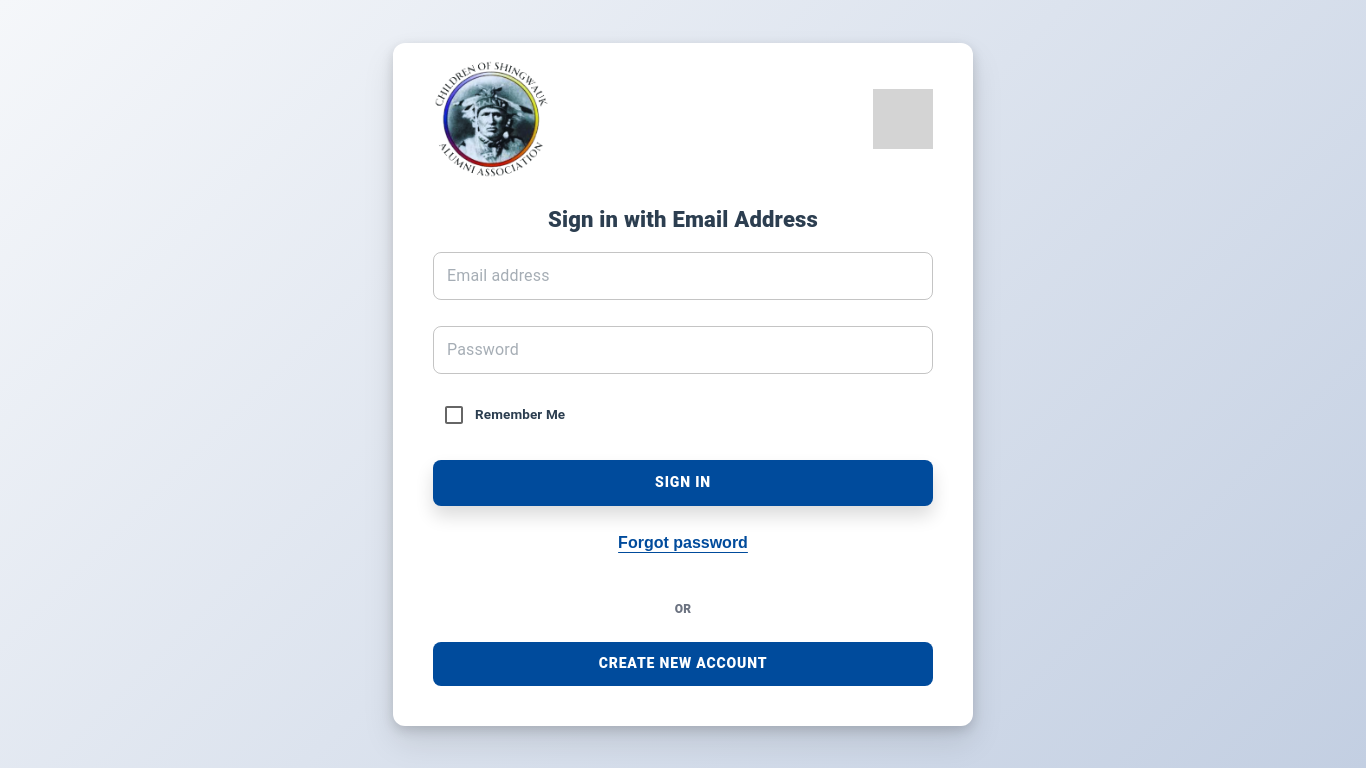
Auth integration › Login: shows toast on API error
The width and height of the screenshot is (1366, 768).
Type "athul@test.com" into the field with placeholder "Email address". click: (683, 276)
box: [433,248,933,304]
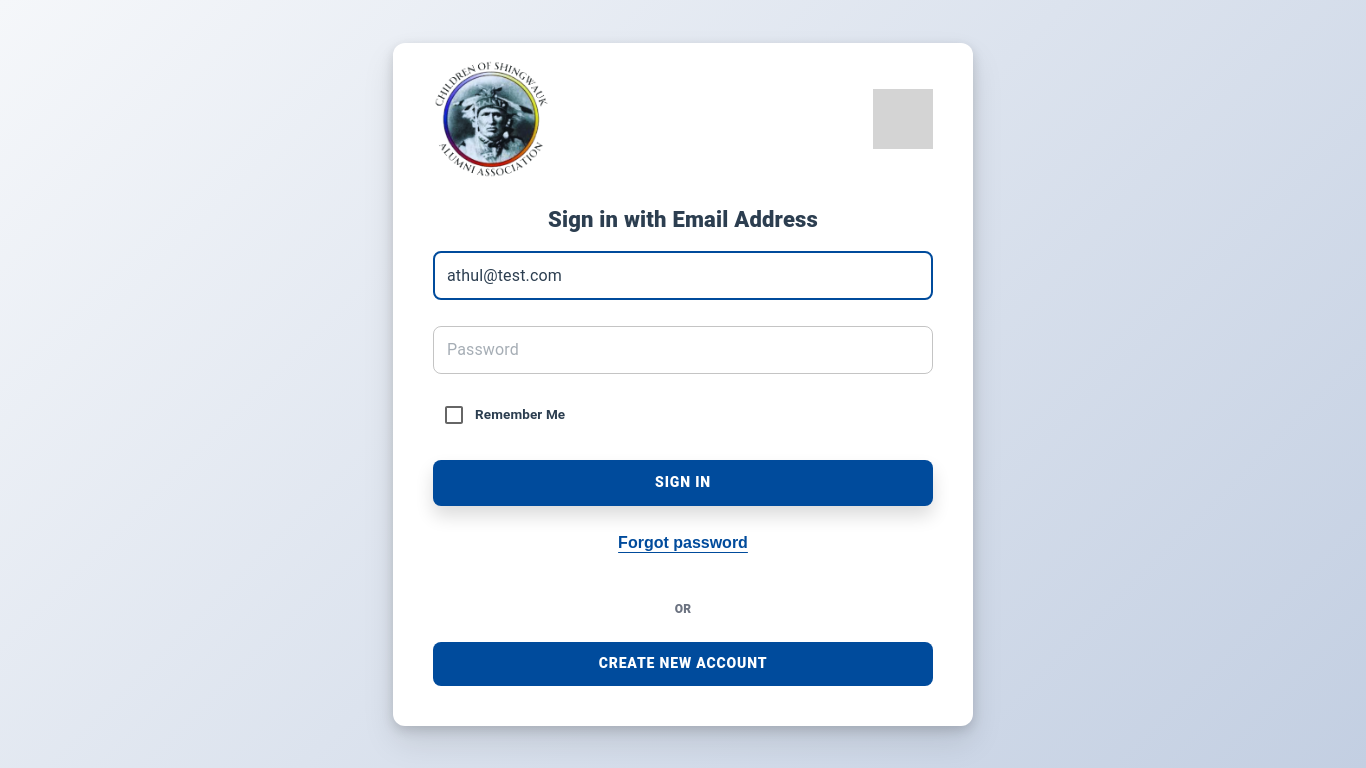
Type "wrongpass" into the password field with placeholder "Password". click: (658, 350)
box: [433,322,883,378]
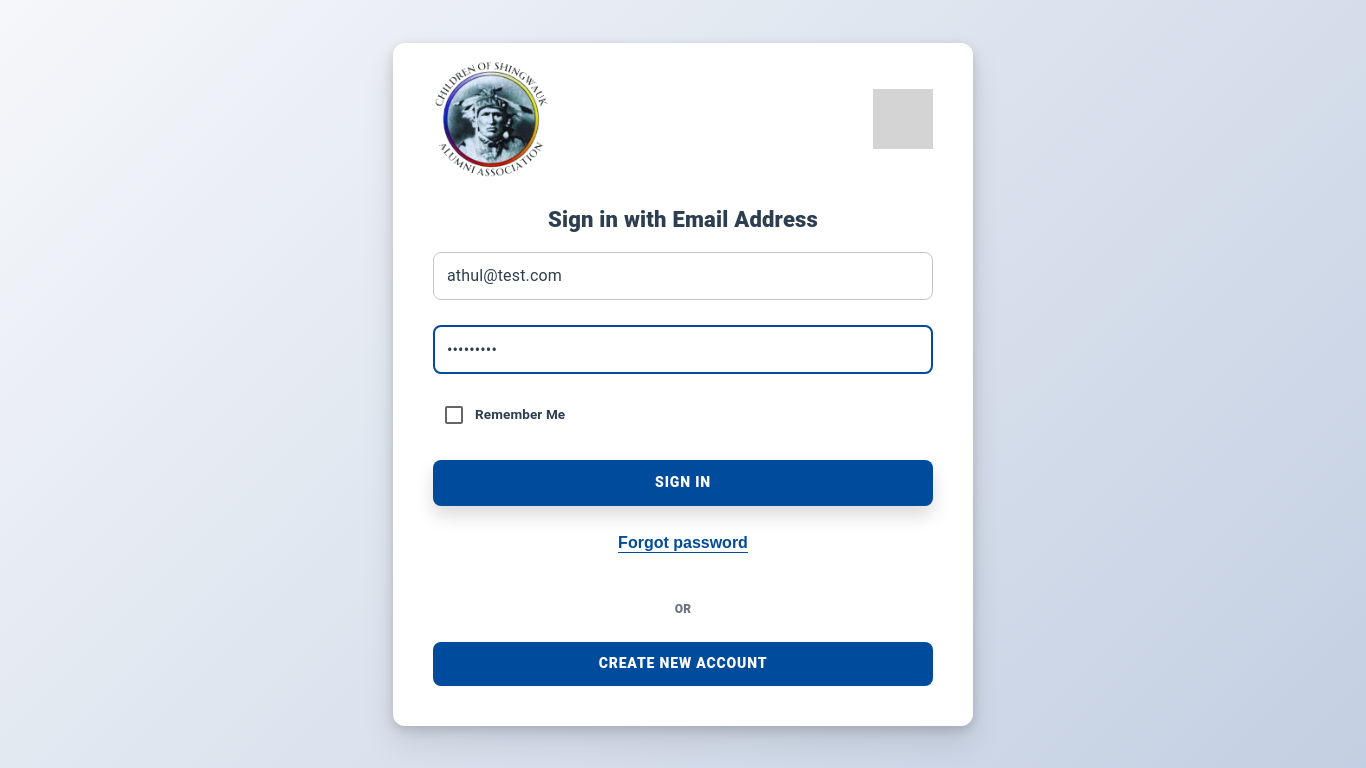
Click the button "Sign In". click: (683, 483)
box: [433,460,933,506]
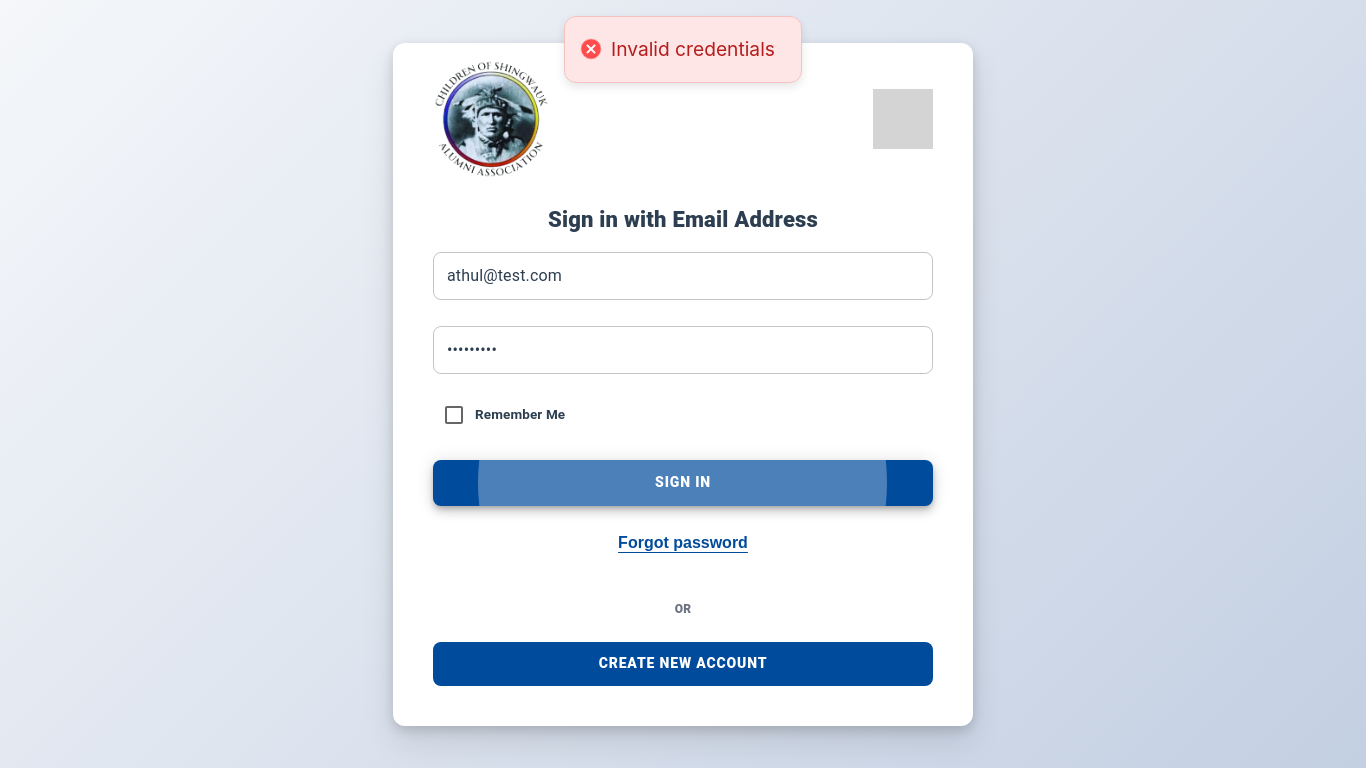
Expected: the text "Invalid credentials" is shown, [611,37,775,62]
